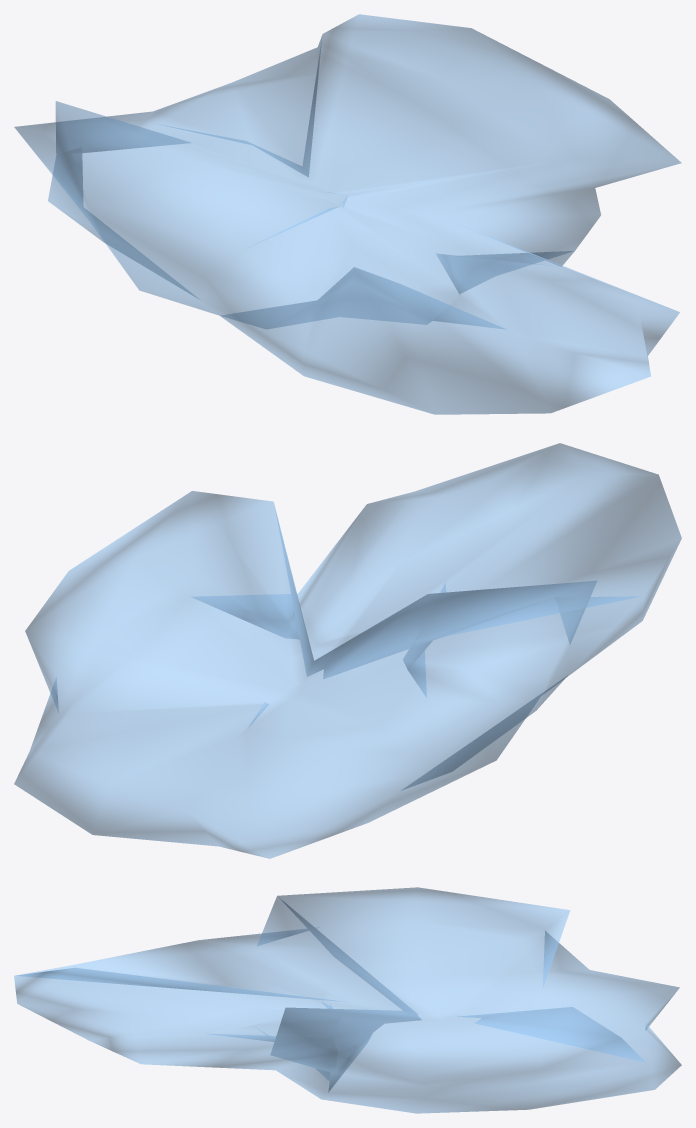
Rendered from ssgaliot_shield.gltf.
3 renders of one model, top to bottom at view 1: azimuth 30°, elevation 25°; view 2: azimuth 150°, elevation 25°; view 3: azimuth 270°, elevation 25°, orthographic. The views are drawn at different scales.
Visible parts, largest first — view 1: ssgaliot.shield; view 2: ssgaliot.shield; view 3: ssgaliot.shield.
Part boxes in pixels (x1,y1,x2,y2): ssgaliot.shield: (14,14,681,414); ssgaliot.shield: (14,443,681,858); ssgaliot.shield: (14,887,681,1113).
Bounding box in the file's own units: 8.43 × 2.35 × 13.47.
